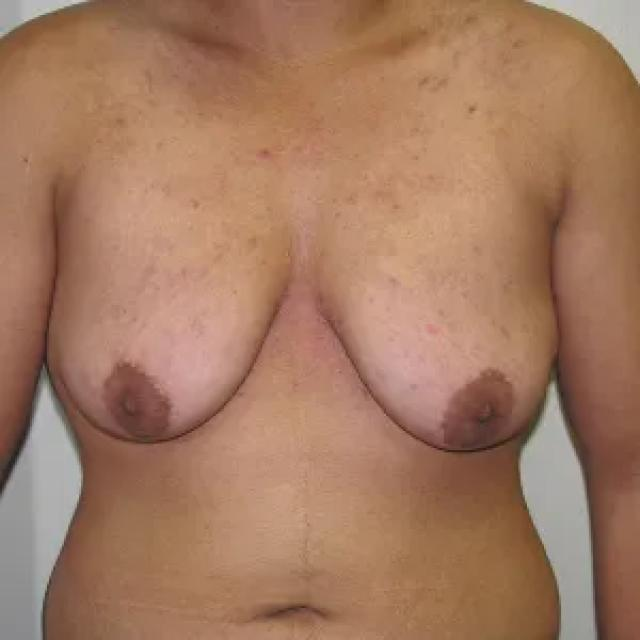Seno ileso: (304, 201, 567, 473), (46, 202, 299, 463)
